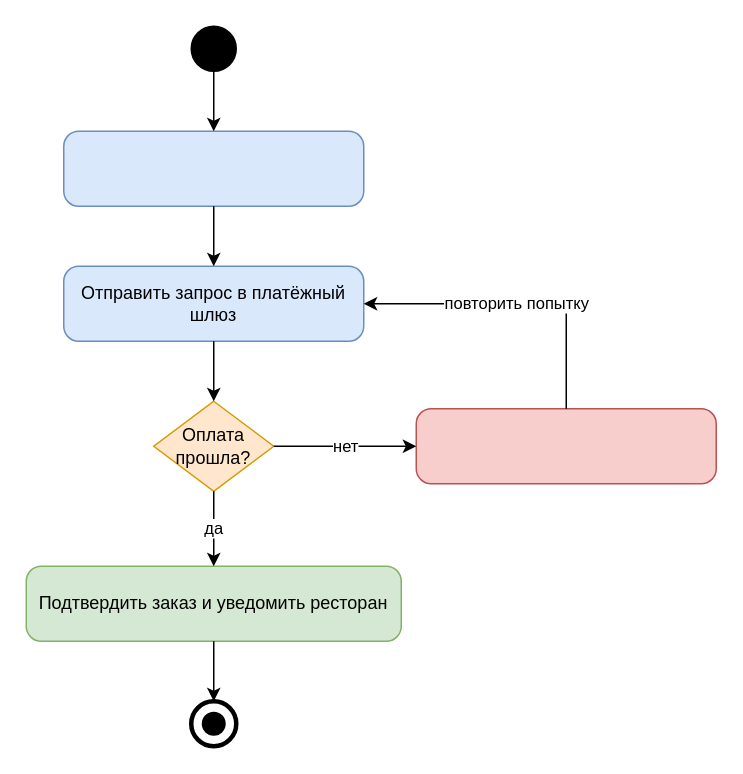
Image size: 743x774. Some labels were removed from this diagram. The centre of each missing label's shape, as x and y in pixels:
Показать сообщение об ошибке: the point at 565,445
Рассчитать стоимость заказа: the point at 213,168
